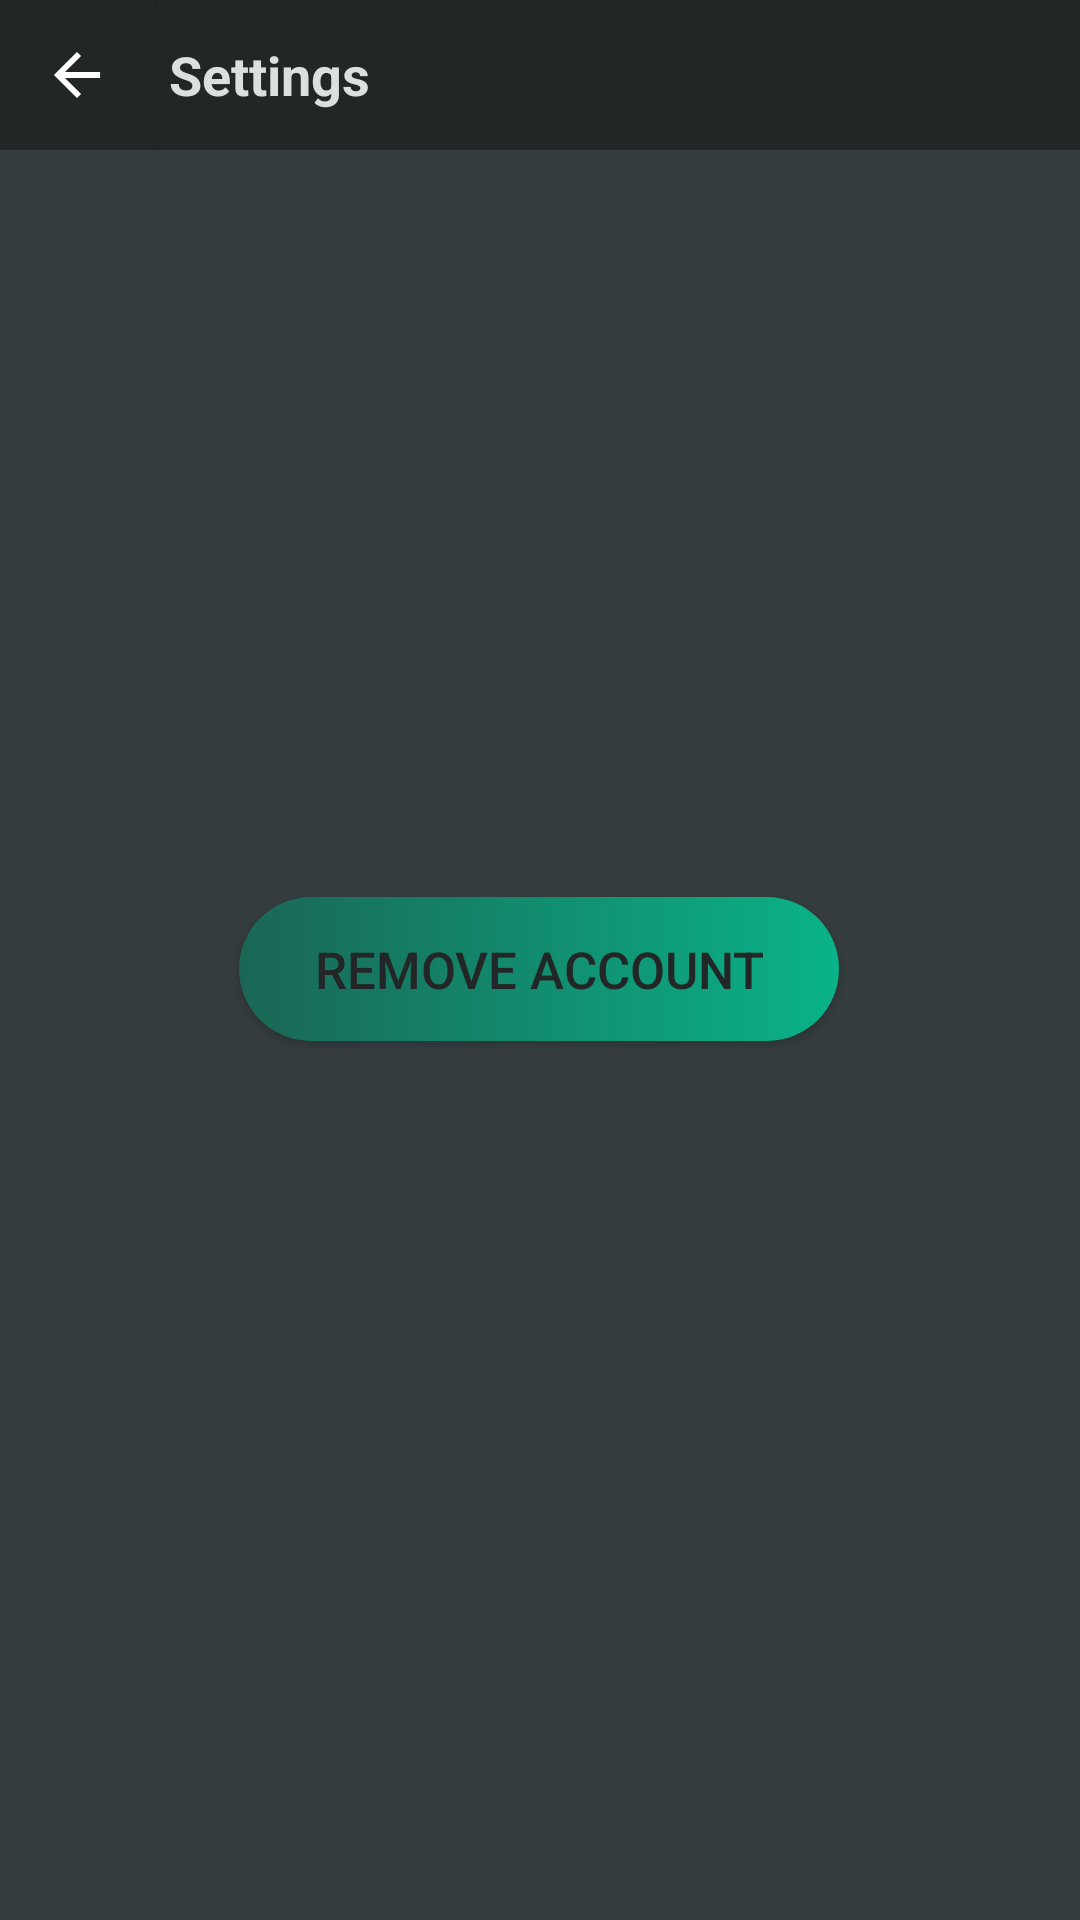

Named icons in this screenshot (1080w x 1920h) and their bounding boxes, (x1, y1, x2, y2):
buttonback: (54, 52, 100, 98)
